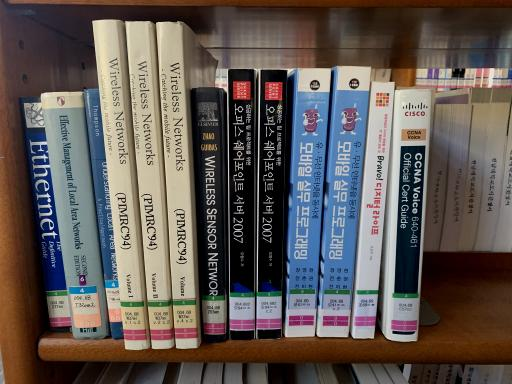book-spine: (92, 19, 150, 350), (40, 92, 111, 340), (125, 21, 173, 349), (318, 66, 372, 338), (156, 22, 200, 349), (19, 97, 72, 333), (286, 69, 332, 337), (388, 89, 431, 342), (353, 82, 395, 339), (84, 89, 124, 339), (193, 87, 227, 342), (257, 69, 287, 339), (228, 69, 255, 339)
